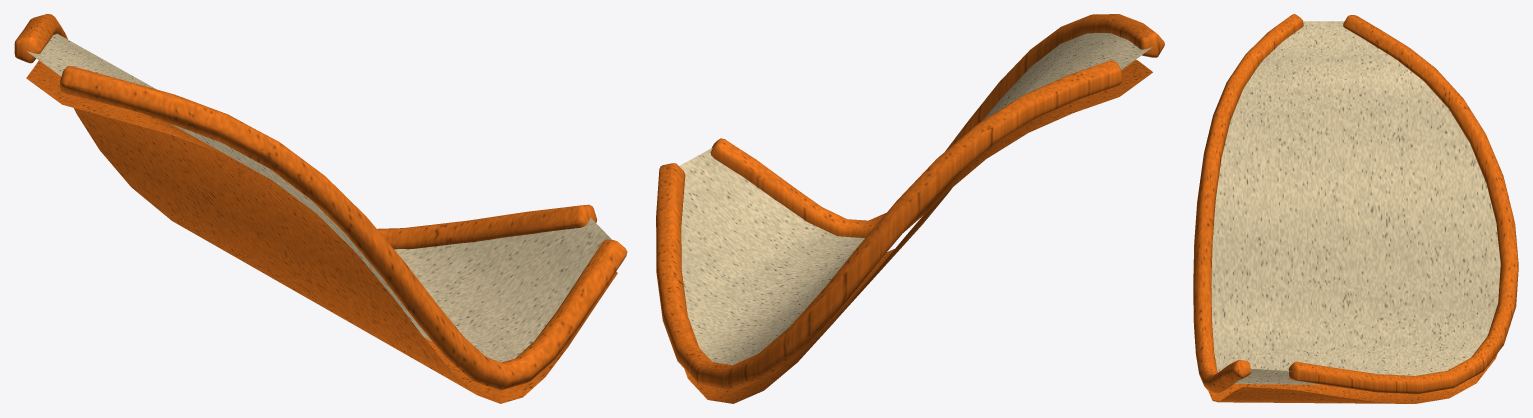
File: food-13-residue.glb
The picture shows the model from 3 angles, left to right: view 1: azimuth 30°, elevation 25°; view 2: azimuth 150°, elevation 25°; view 3: azimuth 270°, elevation 25°; orthographic projection. The views are drawn at different scales.
Parts seen in each view (by area): view 1: Food; view 2: Food; view 3: Food.
Part boxes in pixels (box(x1,y1,x2,y2)): Food: box(14, 14, 627, 403); Food: box(656, 14, 1164, 403); Food: box(1193, 14, 1518, 403).
Size of the model in its own units: 0.3499 by 0.2368 by 0.2717.
1 material, 1 textured.
